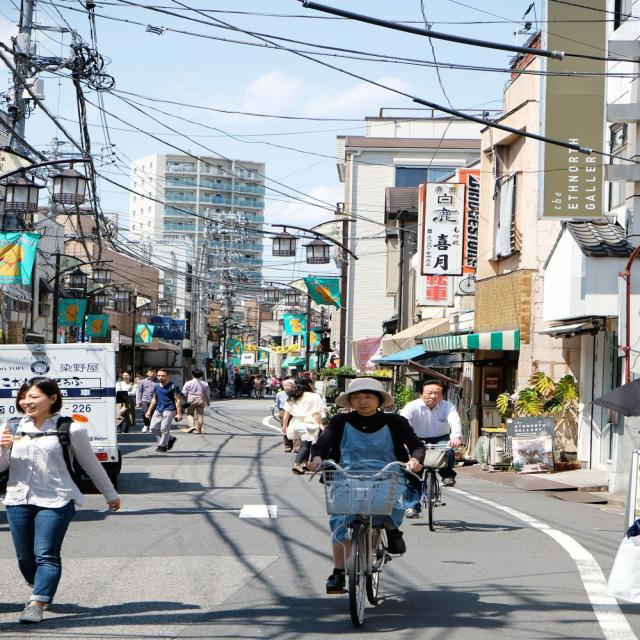body: (0, 375, 122, 623), (304, 375, 428, 591), (394, 378, 466, 518), (280, 375, 328, 475), (144, 368, 184, 453), (275, 378, 303, 454), (180, 368, 212, 434), (137, 366, 160, 434), (115, 371, 138, 433), (133, 371, 147, 408), (252, 376, 268, 398), (233, 375, 243, 399), (257, 374, 267, 398), (246, 376, 256, 398), (265, 376, 273, 397), (272, 377, 284, 391), (115, 370, 124, 384), (282, 375, 299, 379)
